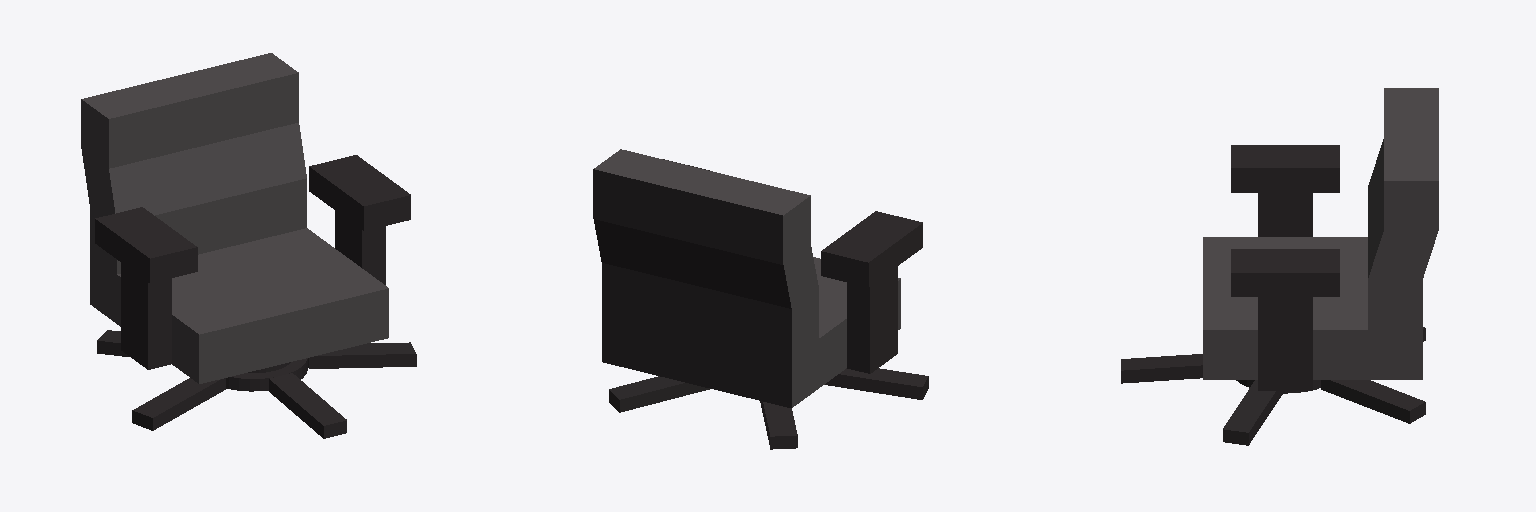
3 views of the same model, side by side, from view 1: azimuth 30°, elevation 25°; view 2: azimuth 150°, elevation 25°; view 3: azimuth 270°, elevation 25° (orthographic).
Parts seen in each view (by area): view 1: Cube, Cube.008_Cube.004, Cube.007_Cube.003, Cube.006_Cube.002, Cube.011_Cube.006, Cube.012_Cube.006, Cube.009_Cube.005, Cube.001, Cube.003_Cube.001, Cube.002_Cube.001, Cube.010_Cube.005, Cylinder.002 (+1 smaller); view 2: Cube.006_Cube.002, Cube.008_Cube.004, Cube.007_Cube.003, Cube.011_Cube.006, Cube.009_Cube.005, Cube, Cube.003_Cube.001, Cube.004_Cube.001, Cube.005_Cube.001; view 3: Cube, Cube.008_Cube.004, Cube.006_Cube.002, Cube.011_Cube.006, Cube.012_Cube.006, Cube.010_Cube.005, Cube.007_Cube.003, Cube.009_Cube.005, Cube.004_Cube.001, Cube.001, Cube.002_Cube.001.
Boxes of the visible parts, x1,y1,x2,y2 form: Cube: [117, 228, 388, 383]; Cube.008_Cube.004: [81, 53, 298, 168]; Cube.007_Cube.003: [82, 123, 306, 215]; Cube.006_Cube.002: [90, 178, 306, 323]; Cube.011_Cube.006: [95, 207, 197, 282]; Cube.012_Cube.006: [309, 155, 410, 230]; Cube.009_Cube.005: [121, 263, 171, 369]; Cube.001: [269, 373, 346, 438]; Cube.003_Cube.001: [132, 378, 225, 430]; Cube.002_Cube.001: [308, 342, 416, 368]; Cube.010_Cube.005: [335, 211, 385, 284]; Cylinder.002: [226, 358, 307, 391]; Cube.006_Cube.002: [602, 263, 818, 407]; Cube.008_Cube.004: [593, 149, 810, 264]; Cube.007_Cube.003: [594, 219, 818, 308]; Cube.011_Cube.006: [821, 211, 922, 287]; Cube.009_Cube.005: [847, 266, 897, 373]; Cube: [813, 257, 900, 387]; Cube.003_Cube.001: [825, 368, 928, 399]; Cube.004_Cube.001: [609, 376, 709, 412]; Cube.005_Cube.001: [760, 401, 797, 449]; Cube: [1203, 237, 1367, 379]; Cube.008_Cube.004: [1384, 88, 1438, 229]; Cube.006_Cube.002: [1368, 280, 1422, 379]; Cube.011_Cube.006: [1231, 145, 1339, 192]; Cube.012_Cube.006: [1231, 249, 1339, 296]; Cube.010_Cube.005: [1258, 297, 1312, 390]; Cube.007_Cube.003: [1368, 139, 1438, 279]; Cube.009_Cube.005: [1258, 193, 1312, 236]; Cube.004_Cube.001: [1321, 380, 1425, 423]; Cube.001: [1121, 354, 1202, 383]; Cube.002_Cube.001: [1223, 380, 1282, 445].
Bounding box in the file's own units: 0.5857 × 0.49 × 0.58.
3 materials, 2 textured.